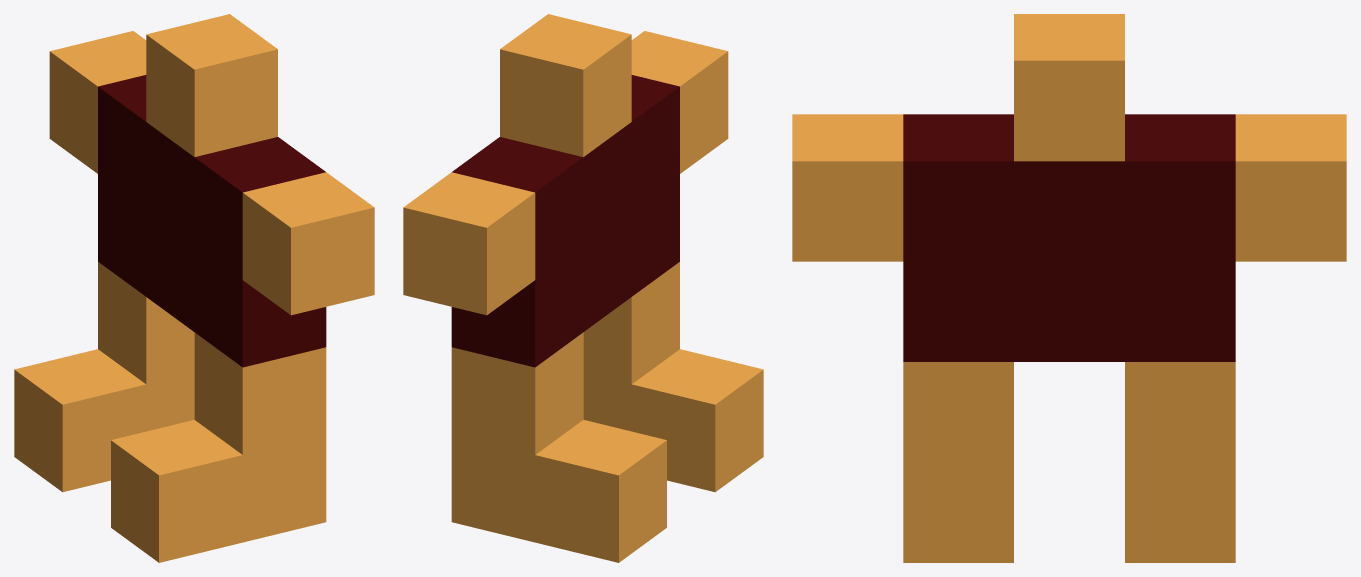
Rendered from KidsRoomStorage-15.obj.
3 views of the same model, side by side, from view 1: azimuth 30°, elevation 25°; view 2: azimuth 150°, elevation 25°; view 3: azimuth 270°, elevation 25° (orthographic). The views are drawn at different scales.
Bounding box in the file's own units: 0.2 × 0.5 × 0.5.
Materials: 1 (1 with a texture image).
